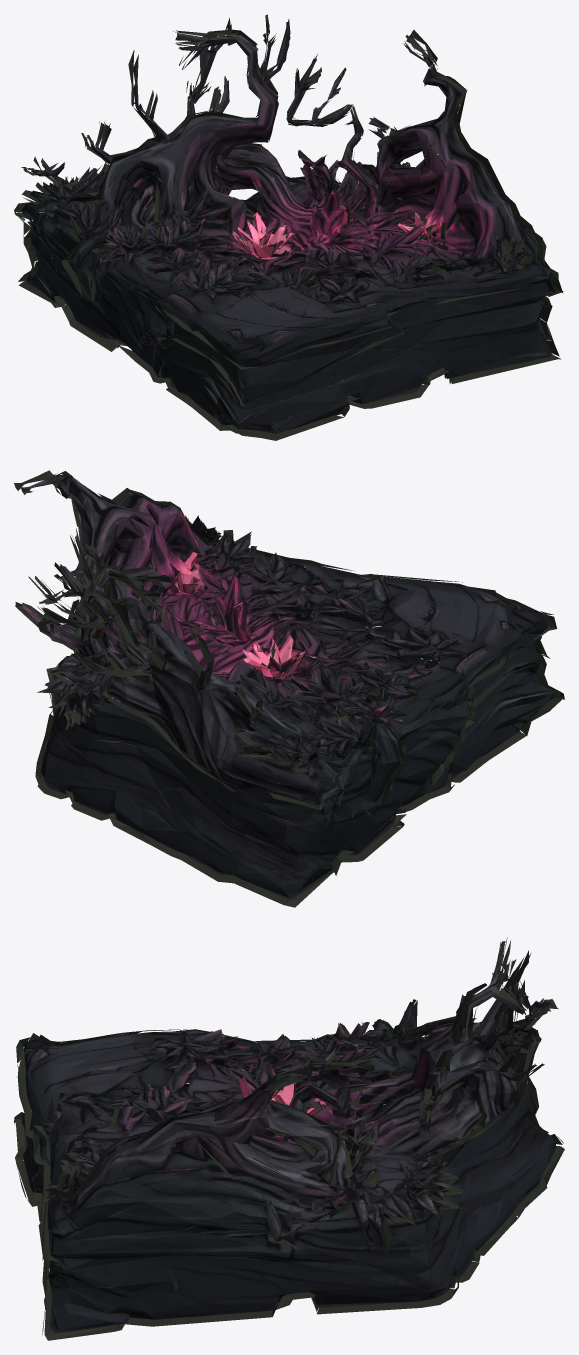
Rendered from df_v2_root_wall_hero_b_a.glb.
3 views of the same model, one above another, from view 1: azimuth 30°, elevation 25°; view 2: azimuth 150°, elevation 25°; view 3: azimuth 270°, elevation 25° (orthographic). The views are drawn at different scales.
Visible parts, largest first — view 1: root_wall_hero_b_mesh_01, root_wall_hero_b_mesh_01_ink_outline; view 2: root_wall_hero_b_mesh_01, root_wall_hero_b_mesh_01_ink_outline; view 3: root_wall_hero_b_mesh_01, root_wall_hero_b_mesh_01_ink_outline.
Boxes of the visible parts, <box> form: root_wall_hero_b_mesh_01: <box>22,20,556,433</box>; root_wall_hero_b_mesh_01_ink_outline: <box>14,14,563,440</box>; root_wall_hero_b_mesh_01: <box>21,475,555,899</box>; root_wall_hero_b_mesh_01_ink_outline: <box>14,470,564,907</box>; root_wall_hero_b_mesh_01: <box>22,941,556,1333</box>; root_wall_hero_b_mesh_01_ink_outline: <box>14,937,564,1340</box>.
Size of the model in its own units: 1.58 by 1.04 by 1.75.
2 materials, 1 textured.
